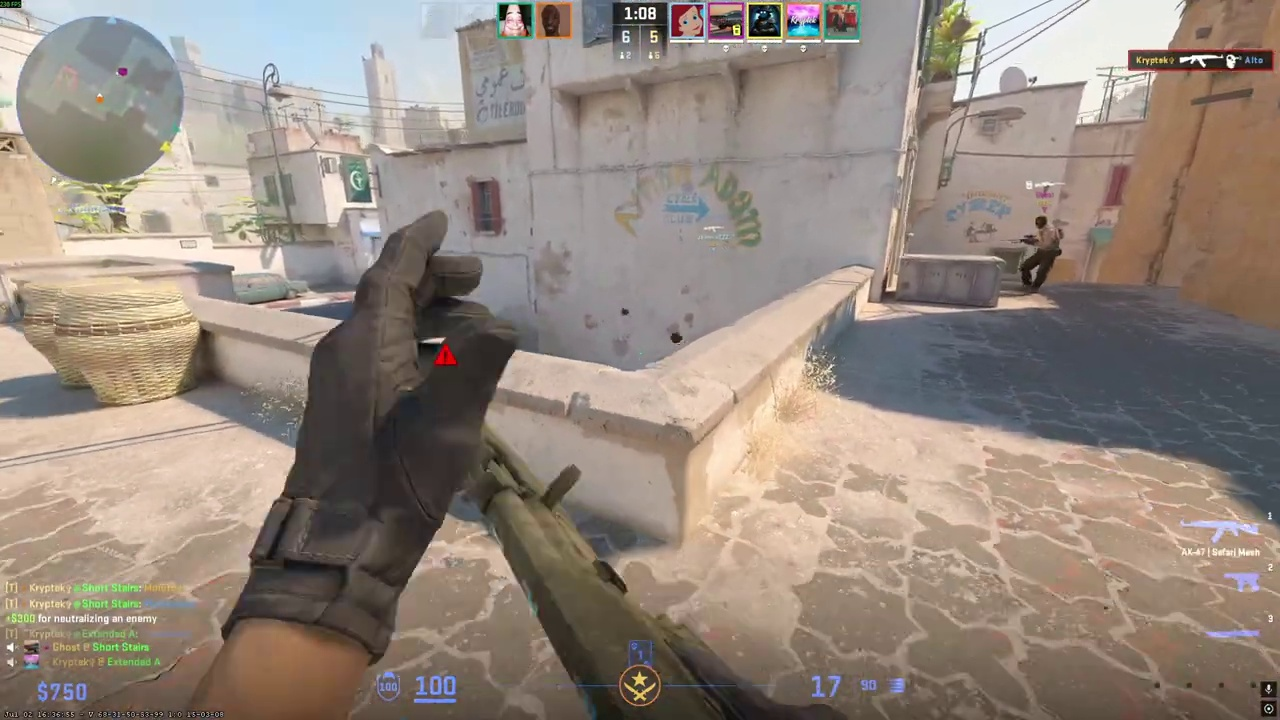Terrorist: (1020, 215, 1061, 293)
